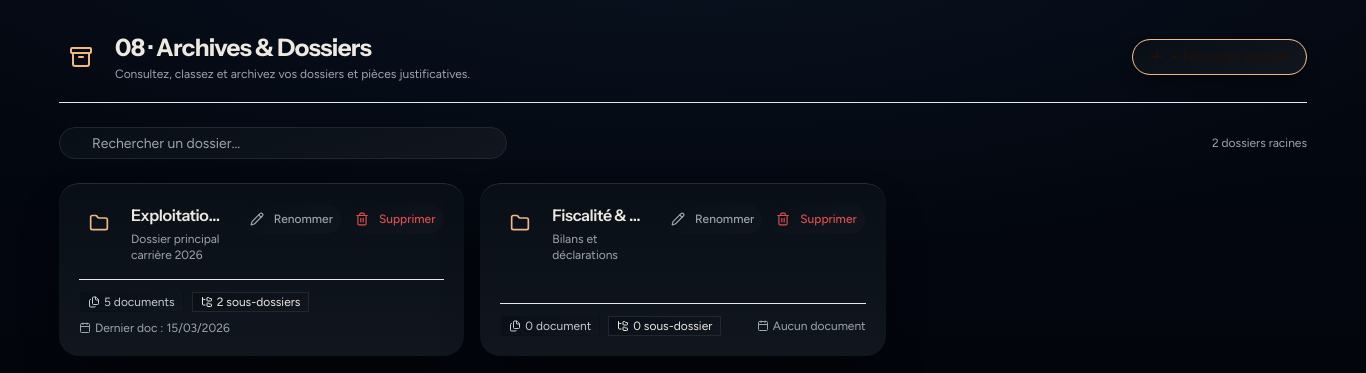
Archives Module UI Pages & Components › ArchivesPage (Root Explorer) › filters clusters using search input
Expected: the heading "Exploitation & Carrière" is shown, [131,203,229,227]
Type "Douanes" into the field with placeholder "Rechercher un dossier..." at (283, 143), box [59,127,507,159]
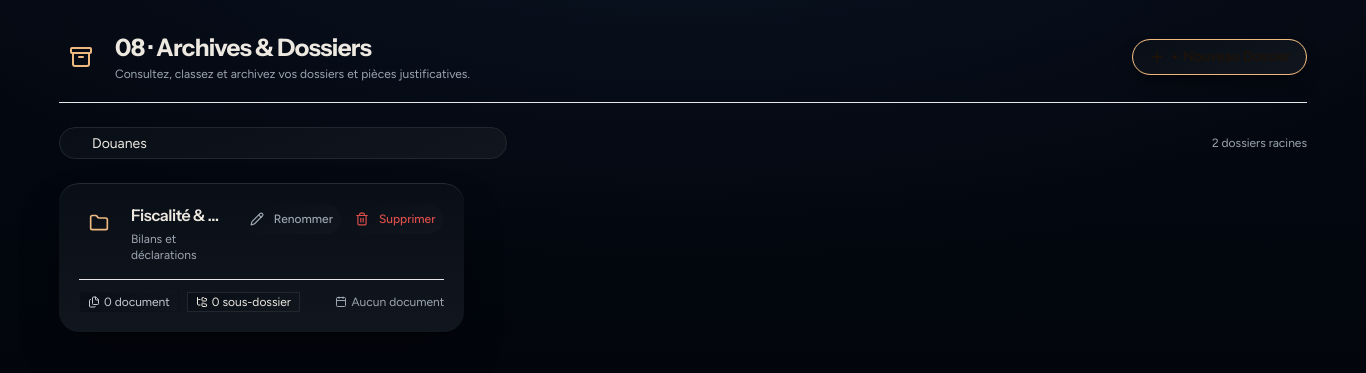
Expected: the heading "Fiscalité & Douanes" is shown, [131,203,229,227]
Expected: the link "Exploitation & Carrière" is gone
